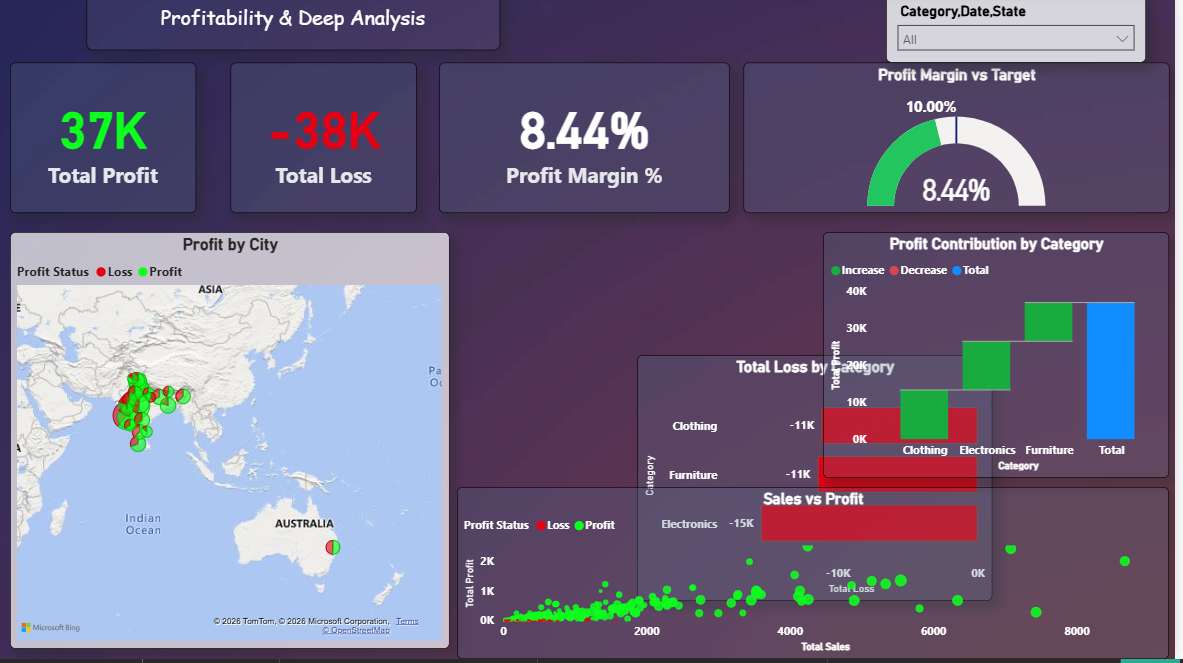

The page's visual inventory and layout, read from the dashboard file:
{"tool":"powerbi","page":{"name":"Profitability & Deep Analysis","canvas":[1280,720],"ordinal":3},"visuals":[{"type":"card","fields":{"Values":["Details.Total Profit"]},"box":[16.7,73.3,201.7,163.3],"z":0},{"type":"card","fields":{"Values":["Details.Total Loss"]},"box":[255,73.3,201.7,163.3],"z":1000},{"type":"card","fields":{"Values":["Details.Profit Margin %"]},"box":[481.7,73.3,315,163.3],"z":2000},{"type":"gauge","title":"Profit Margin vs Target","fields":{"Y":["Details.Profit Margin %"],"TargetValue":["Details.Profit Margin Target"],"MinValue":["Details.Gauge Min"],"MaxValue":["Details.Gauge Max"]},"box":[811.7,73.3,461.7,163.3],"z":3000},{"type":"map","title":"Profit by City","fields":{"Category":["Orders.City"],"Size":["Details.Total Sales"],"Series":["Details.Profit Status"]},"box":[16.7,256.7,476.7,451.7],"z":4000},{"type":"barChart","fields":{"Category":["Details.Category"],"Y":["Details.Total Loss"]},"box":[501.7,256.7,385,266.7],"z":5000},{"type":"scatterChart","title":"Sales vs Profit","fields":{"X":["Details.Total Sales"],"Y":["Details.Total Profit"],"Size":["Details.Total Quantity"],"Category":["Orders.CustomerName"],"Series":["Details.Profit Status"]},"box":[501.7,533.3,771.7,186.7],"z":6000},{"type":"waterfallChart","title":"Profit Contribution by Category","fields":{"Category":["Details.Category"],"Y":["Details.Total Profit"]},"box":[898.3,256.7,375,266.7],"z":7000},{"type":"textbox","box":[100,0,448.3,60],"z":8000},{"type":"slicer","fields":{"Values":["Details.Category","Orders.City","Details.PaymentMode"]},"box":[966.7,0,281.7,73.3],"z":9000}]}

Visuals, with their boxes in screenshot pixels (x1, y1, x2, y2), scaled from the page's 1280x720 canvas onto the 1183x663 screenshot:
card - Details.Total Profit: l=15, t=67, r=202, b=218
card - Details.Total Loss: l=236, t=67, r=422, b=218
card - Details.Profit Margin %: l=445, t=67, r=736, b=218
"Profit Margin vs Target" gauge: l=750, t=67, r=1177, b=218
"Profit by City" map: l=15, t=236, r=456, b=652
barChart - Details.Category x Details.Total Loss: l=464, t=236, r=820, b=482
"Sales vs Profit" scatterChart: l=464, t=491, r=1177, b=662
"Profit Contribution by Category" waterfallChart: l=830, t=236, r=1177, b=482
textbox: l=92, t=0, r=507, b=55
slicer - Details.Category x Orders.City: l=893, t=0, r=1154, b=67
